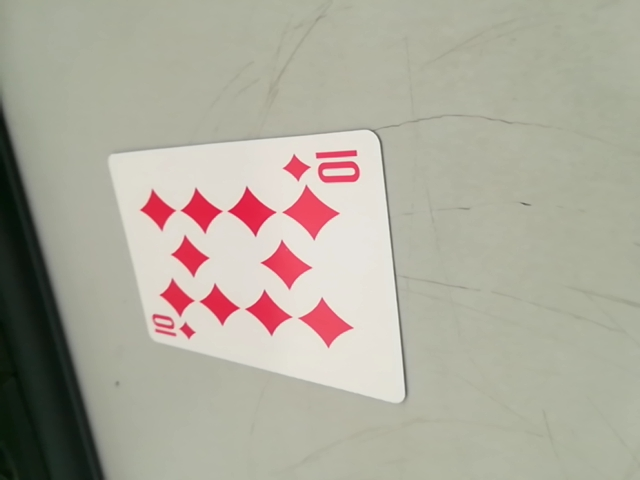fk 10: (283, 142, 367, 190), (148, 310, 204, 348)
